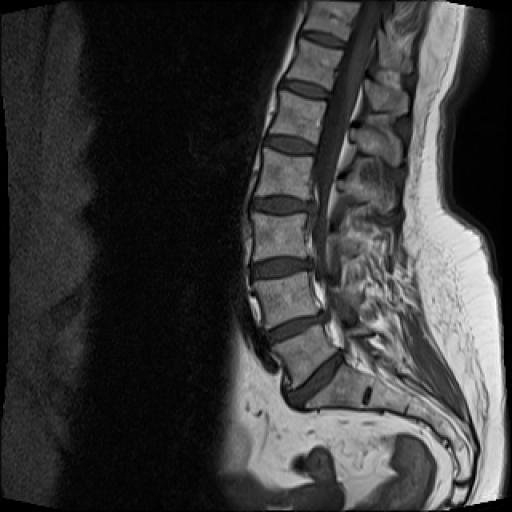L1: (269, 90, 326, 144)
L2: (255, 148, 313, 200)
L3: (252, 212, 307, 260)
L4: (252, 272, 319, 328)
L5: (272, 326, 336, 386)
S1: (305, 363, 374, 408)
